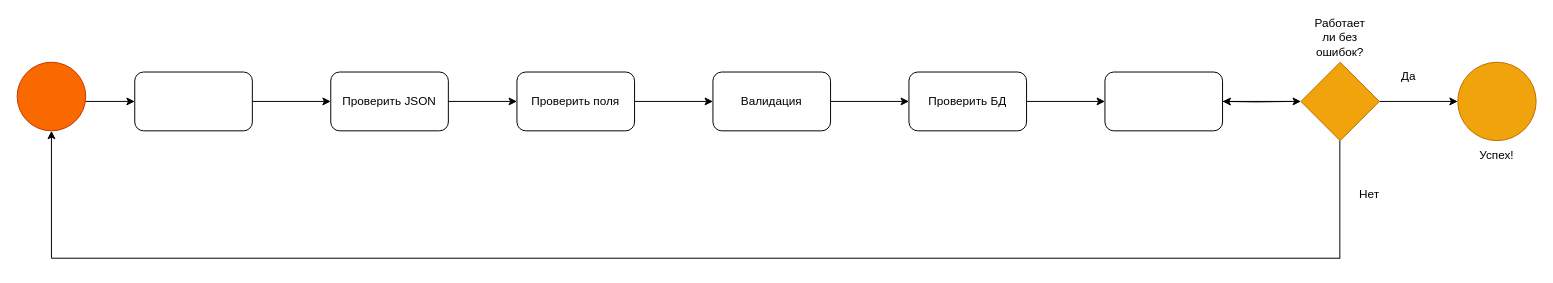
Some shapes in this 1553 by 283 pixel diagram are drawn without their labels. The shapes that lost their labels are listed below. From the top down, each one's centre as x and y in pixels, then its label:
At (193,101): "Принять запрос".
At (1163,101): "Создать".
